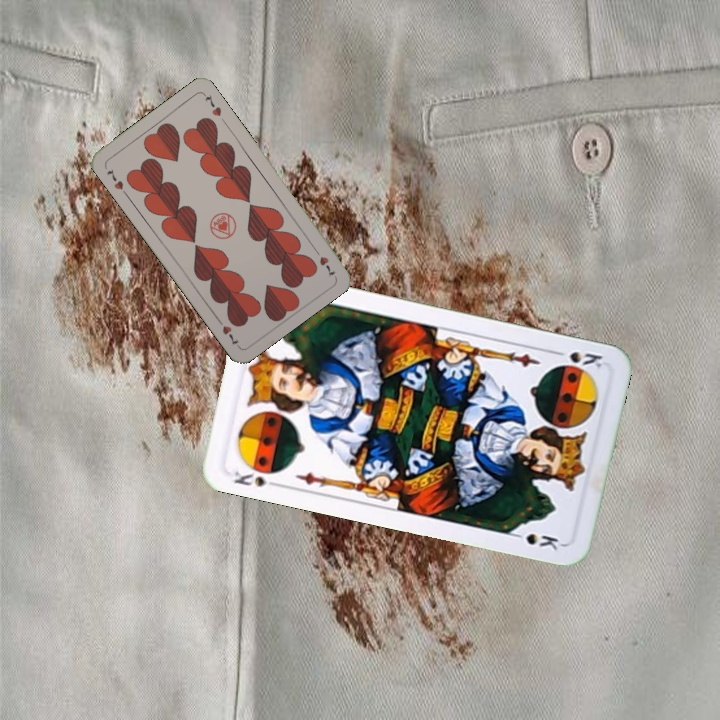H7: (310, 244, 338, 280), (103, 165, 130, 198)
SK: (548, 346, 606, 371), (229, 467, 283, 490)
